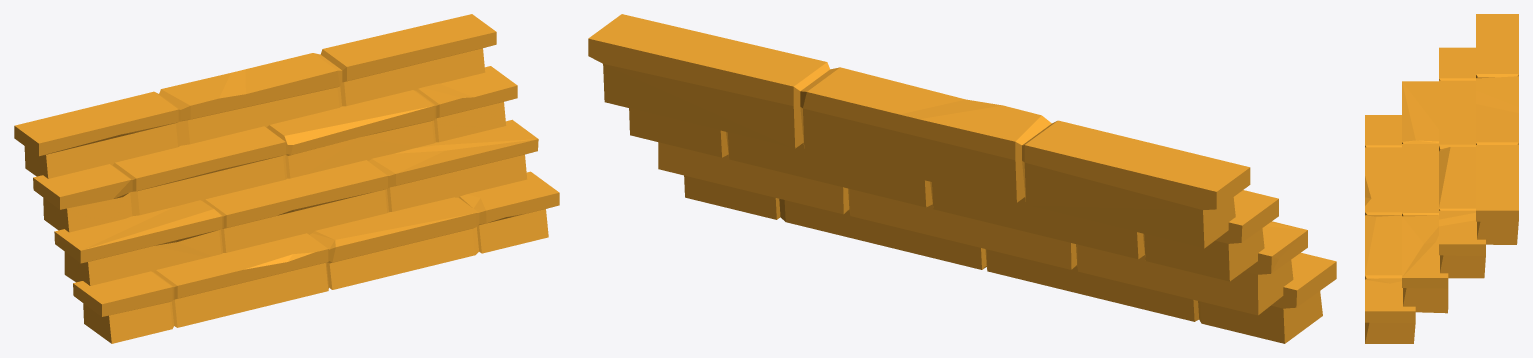
Rendered from SM_Stairs_Stone_Nice_Fantasy.fbx.
3 renders of one model, left to right at view 1: azimuth 30°, elevation 25°; view 2: azimuth 150°, elevation 25°; view 3: azimuth 270°, elevation 25°, orthographic. The views are drawn at different scales.
Parts seen in each view (by area): view 1: SM_Stairs_Stone_Nice_Fantasy; view 2: SM_Stairs_Stone_Nice_Fantasy; view 3: SM_Stairs_Stone_Nice_Fantasy.
Boxes of the visible parts, box(x1,y1,x2,y2) form: SM_Stairs_Stone_Nice_Fantasy: box(14, 14, 559, 343); SM_Stairs_Stone_Nice_Fantasy: box(588, 14, 1336, 343); SM_Stairs_Stone_Nice_Fantasy: box(1365, 14, 1518, 343).
Size of the model in its own units: 3.15 by 1.04 by 1.04.
